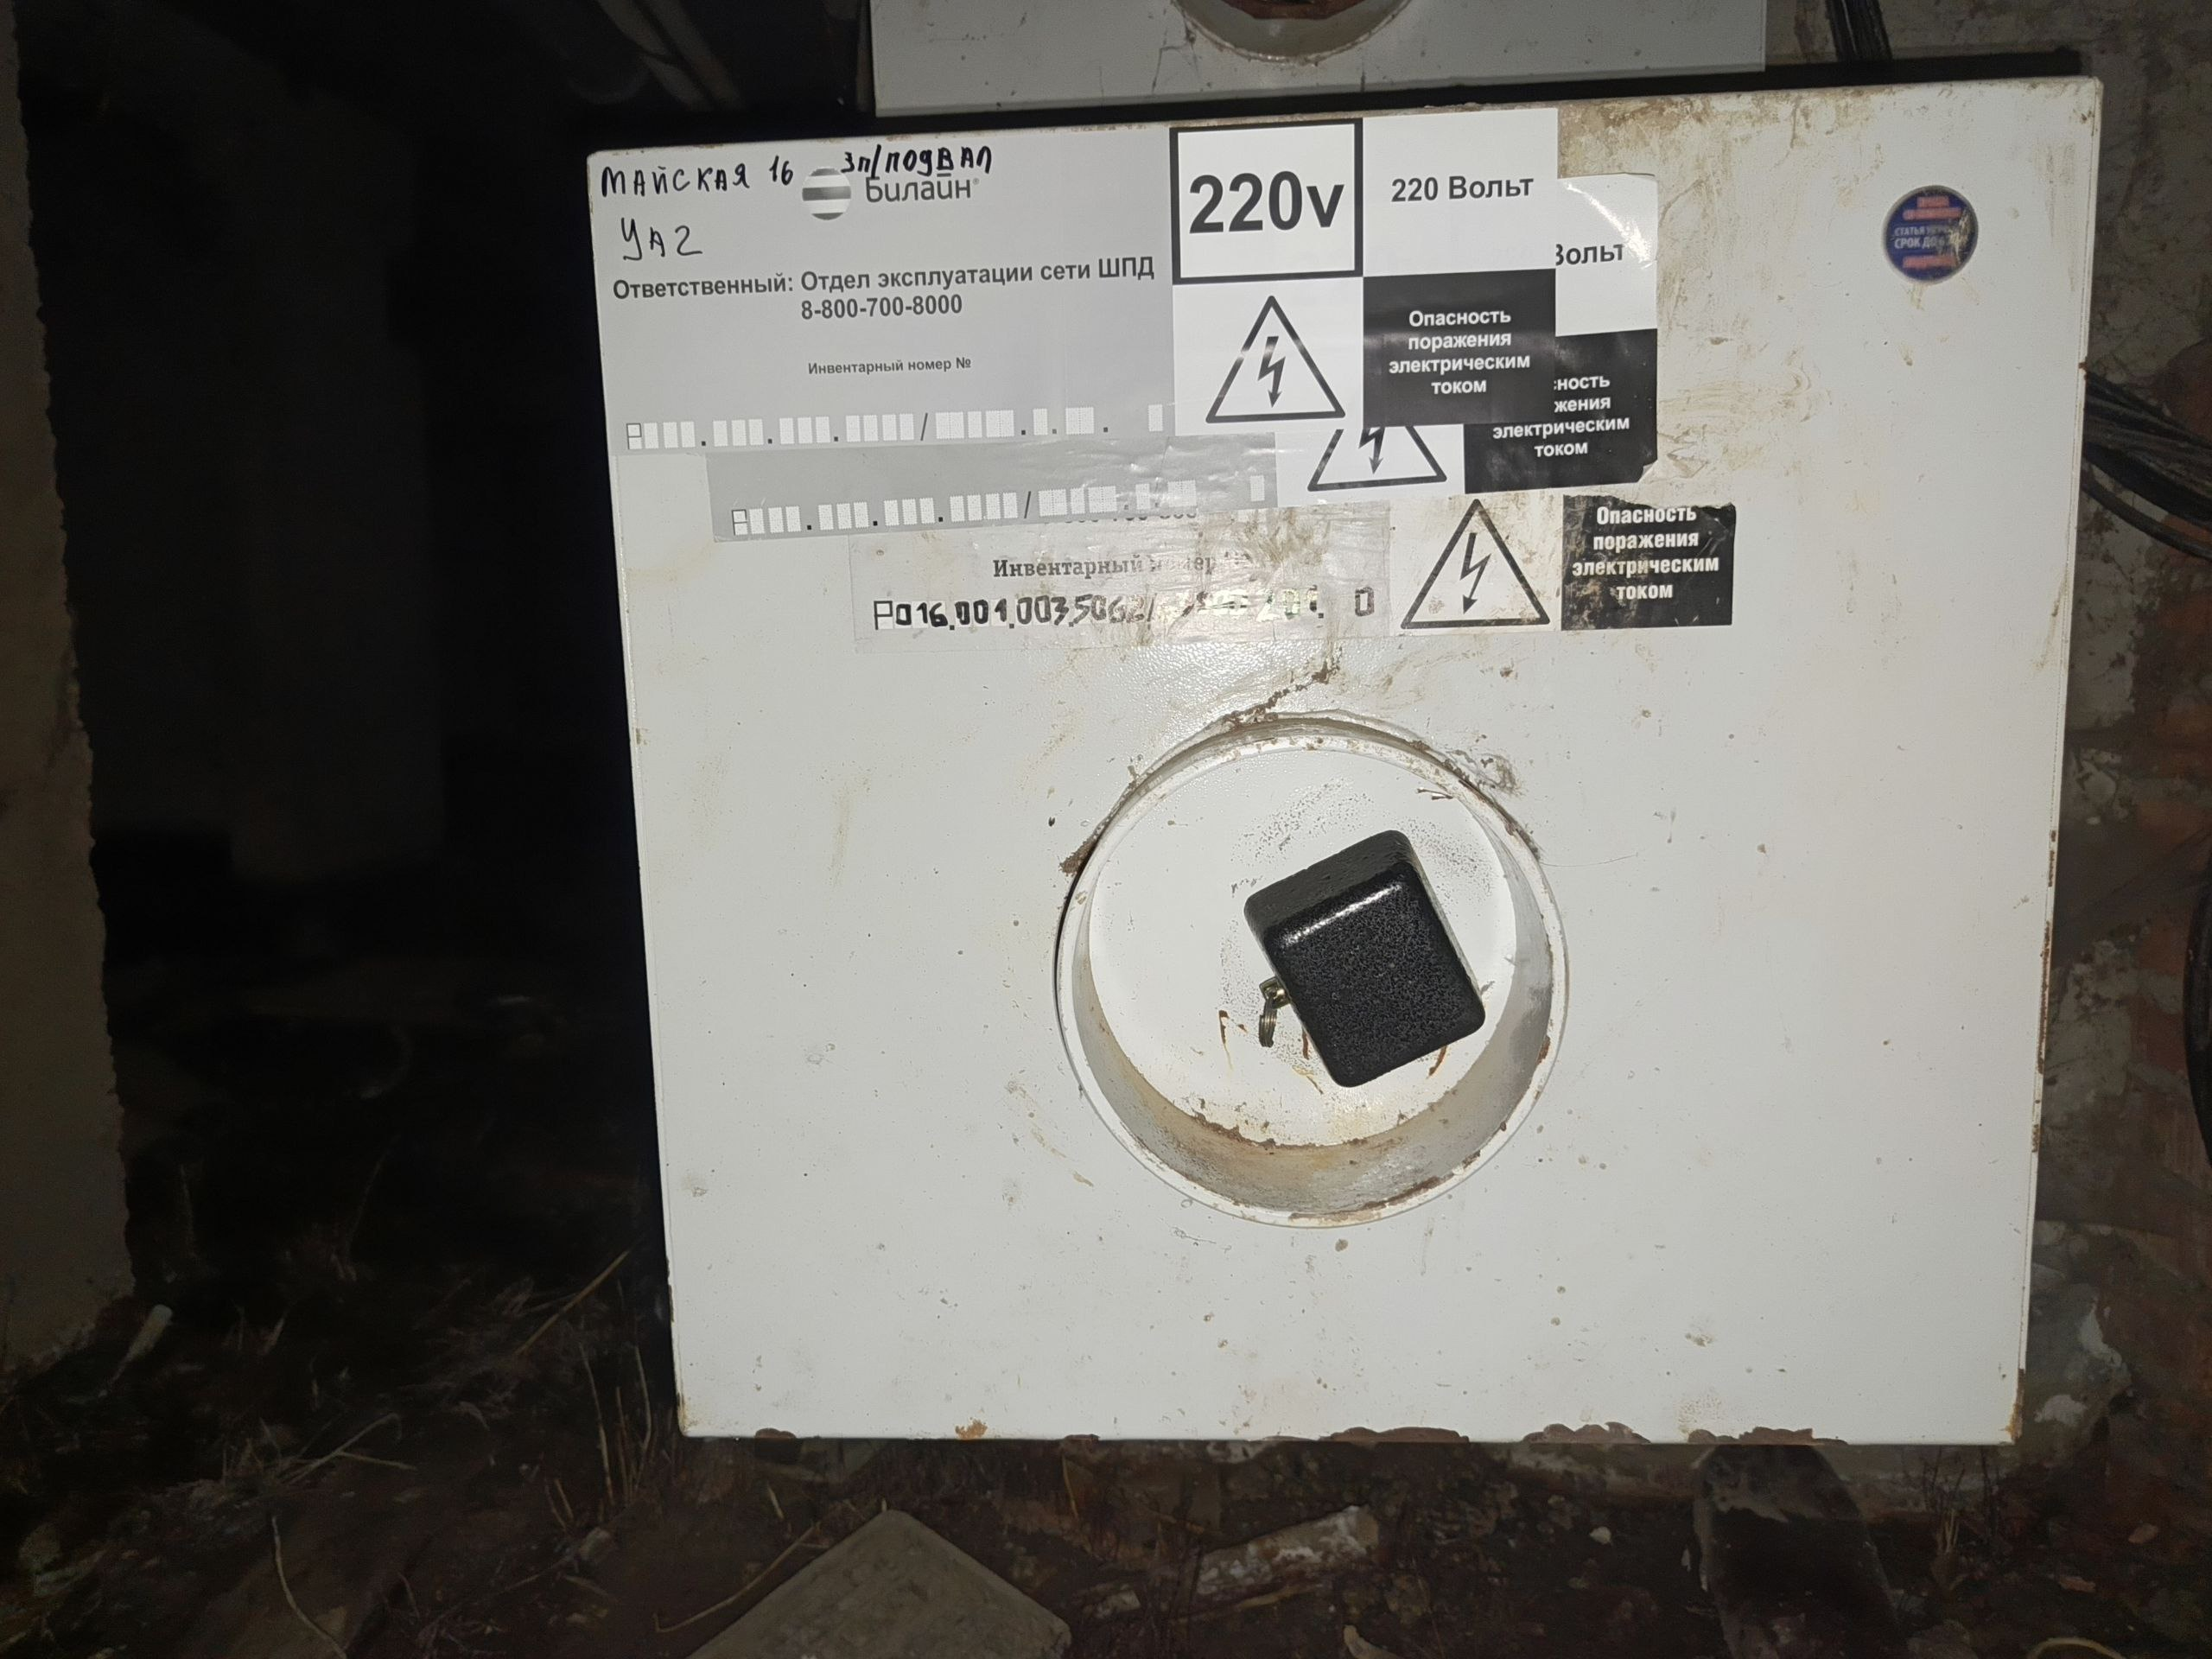shta-9: (568, 49, 2125, 1476)
